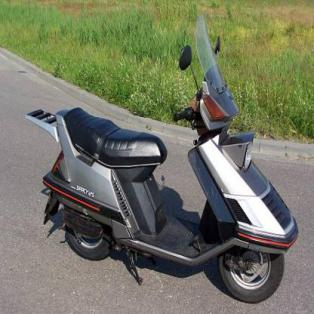Motocicleta: (27, 45, 294, 303)
